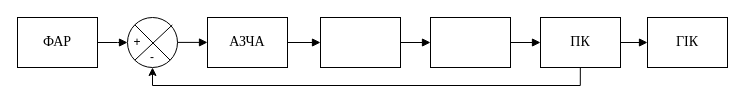
Image size: 745x111. Some labels were removed from this diagram. Here are the shapes that lost their labels. From the top down, the box of each, then its label:
(320, 16, 400, 68): АЦП/ЦАП
(430, 16, 510, 68): ЧД
